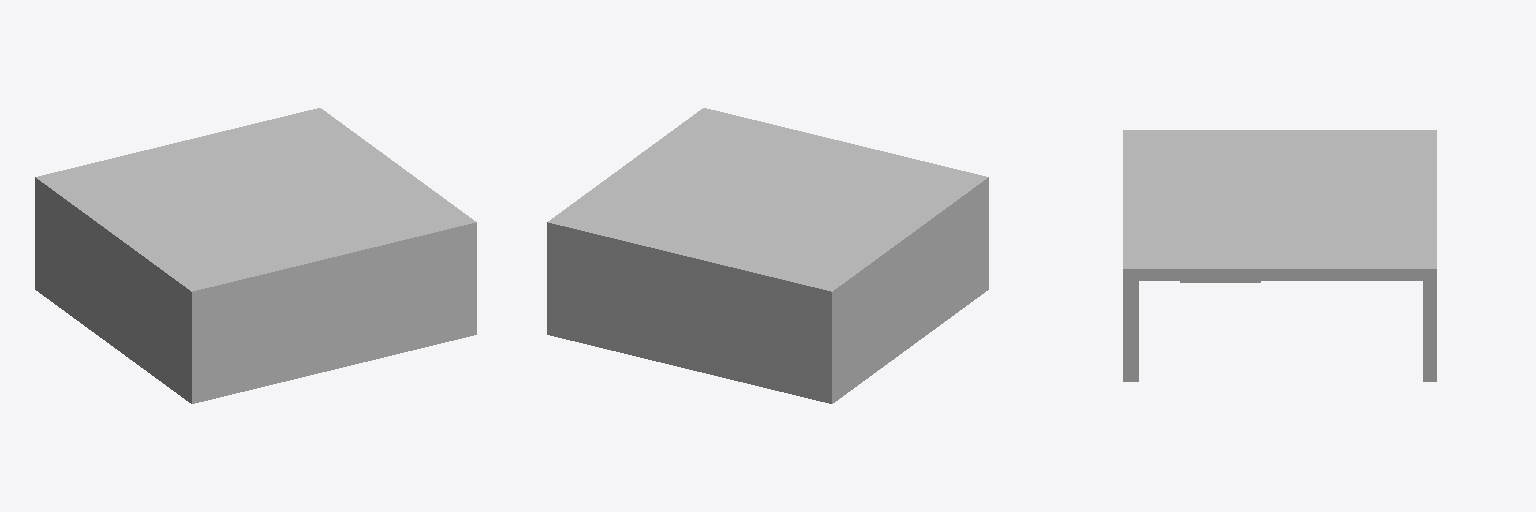
Rendered from Room.obj.
The picture shows the model from 3 angles: view 1: azimuth 30°, elevation 25°; view 2: azimuth 150°, elevation 25°; view 3: azimuth 270°, elevation 25°; orthographic projection.
Size of the model in its own units: 7.28 by 2.75 by 6.93.